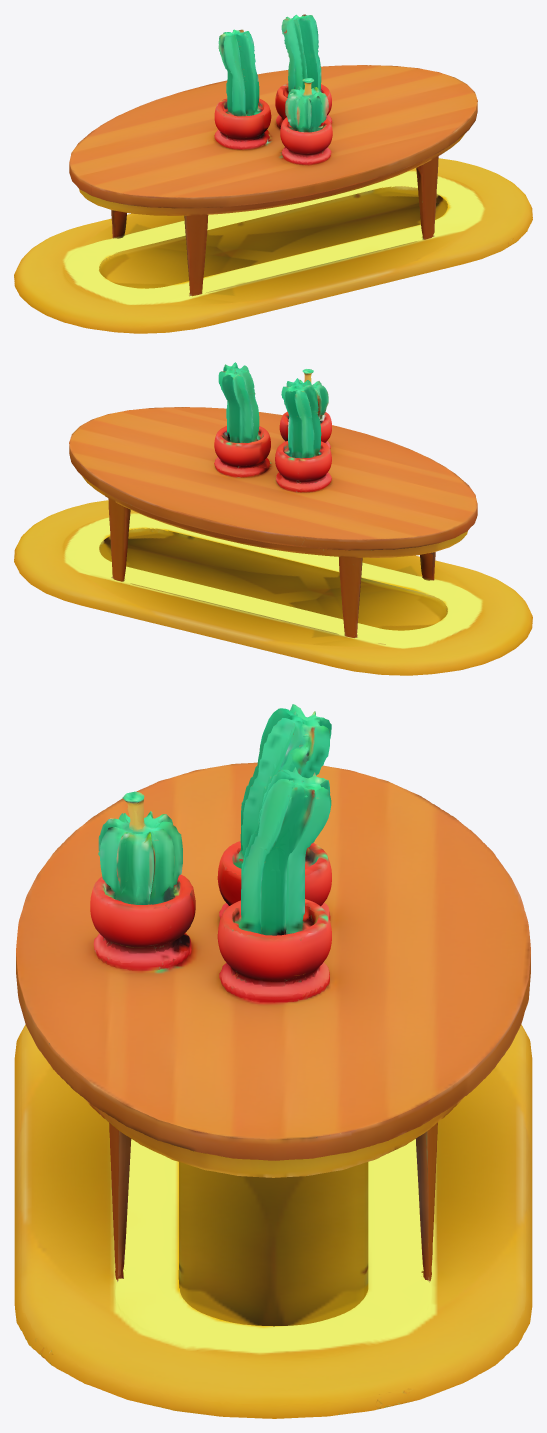
The model's file is table1.fbx.
3 renders of one model, top to bottom at view 1: azimuth 30°, elevation 25°; view 2: azimuth 150°, elevation 25°; view 3: azimuth 270°, elevation 25°, orthographic. The views are drawn at different scales.
Parts seen in each view (by area): view 1: model.001, model; view 2: model.001, model; view 3: model.001, model.
Boxes of the visible parts, bbox=[...] form: model.001: bbox=[69, 14, 477, 294]; model: bbox=[14, 158, 532, 333]; model.001: bbox=[69, 362, 477, 635]; model: bbox=[14, 500, 532, 675]; model.001: bbox=[16, 704, 530, 1281]; model: bbox=[14, 1024, 532, 1418].
Size of the model in its own units: 190 by 82.8 by 87.84.
